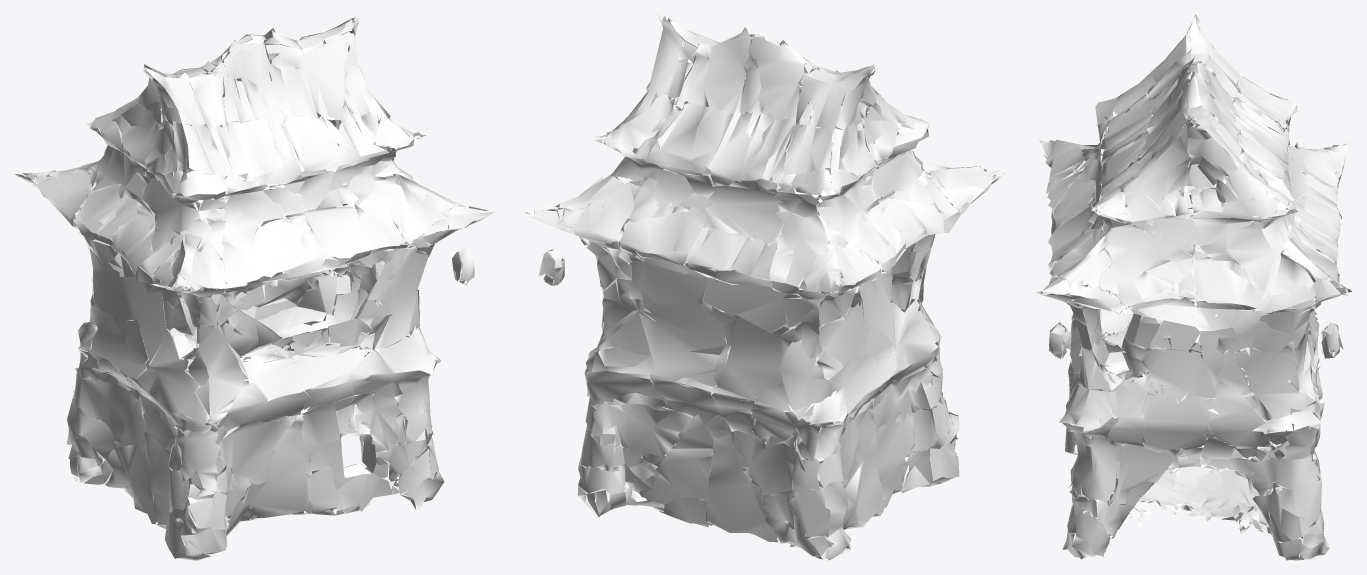
Rendered from house_two_a_lo.glb.
The picture shows the model from 3 angles, left to right: view 1: azimuth 30°, elevation 25°; view 2: azimuth 150°, elevation 25°; view 3: azimuth 270°, elevation 25°; orthographic projection. The views are drawn at different scales.
Parts seen in each view (by area): view 1: output_unwrapped; view 2: output_unwrapped; view 3: output_unwrapped.
Part boxes in pixels (x1=…): output_unwrapped: x1=15, y1=17, x2=494, y2=560; output_unwrapped: x1=524, y1=14, x2=1005, y2=560; output_unwrapped: x1=1036, y1=14, x2=1351, y2=560.
Size of the model in its own units: 7.62 by 10.51 by 6.68.
Materials: 1 (1 with a texture image).
